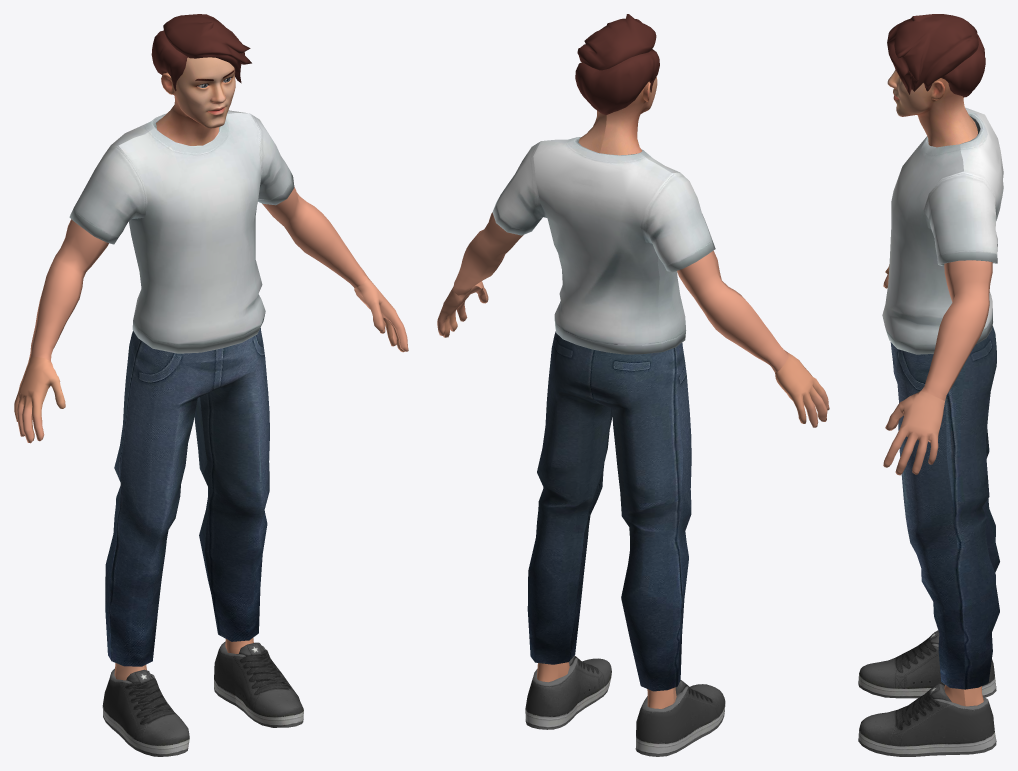
The model's file is Character_1.glb.
The picture shows the model from 3 angles, left to right: view 1: azimuth 30°, elevation 25°; view 2: azimuth 150°, elevation 25°; view 3: azimuth 270°, elevation 25°; orthographic projection.
Visible parts, largest first — view 1: Outfit_Bottom.001, Outfit_Top.001, Body, Outfit_Footwear.001, Head, Hair; view 2: Outfit_Bottom.001, Outfit_Top.001, Body, Outfit_Footwear.001, Hair, Head; view 3: Outfit_Bottom.001, Outfit_Top.001, Outfit_Footwear.001, Body, Hair, Head.
Part boxes in pixels (left/top/right/bottom): Outfit_Bottom.001: left=105, top=328, right=269, bottom=666; Outfit_Top.001: left=69, top=110, right=294, bottom=353; Body: left=14, top=187, right=408, bottom=680; Outfit_Footwear.001: left=102, top=641, right=303, bottom=756; Head: left=156, top=57, right=235, bottom=145; Hair: left=151, top=14, right=251, bottom=91; Outfit_Bottom.001: left=527, top=331, right=691, bottom=691; Outfit_Top.001: left=492, top=137, right=715, bottom=354; Body: left=437, top=212, right=829, bottom=708; Outfit_Footwear.001: left=525, top=655, right=725, bottom=756; Hair: left=575, top=14, right=659, bottom=114; Head: left=578, top=77, right=657, bottom=155; Outfit_Bottom.001: left=890, top=326, right=999, bottom=689; Outfit_Top.001: left=882, top=107, right=1003, bottom=354; Outfit_Footwear.001: left=858, top=630, right=996, bottom=756; Body: left=883, top=260, right=992, bottom=706; Hair: left=887, top=14, right=985, bottom=97; Head: left=887, top=69, right=977, bottom=147.
Size of the model in its own units: 1.06 by 1.87 by 0.3503.
6 materials, 6 textured.
